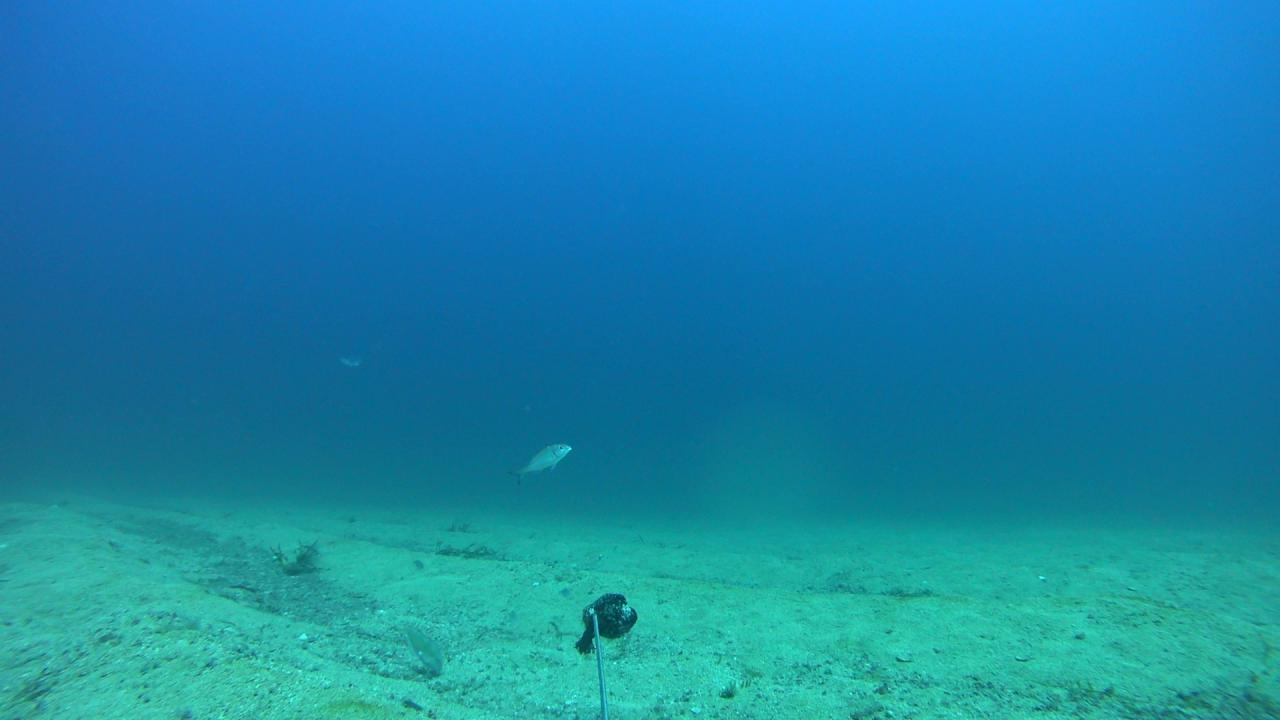pagellus: (505, 443, 572, 486)
